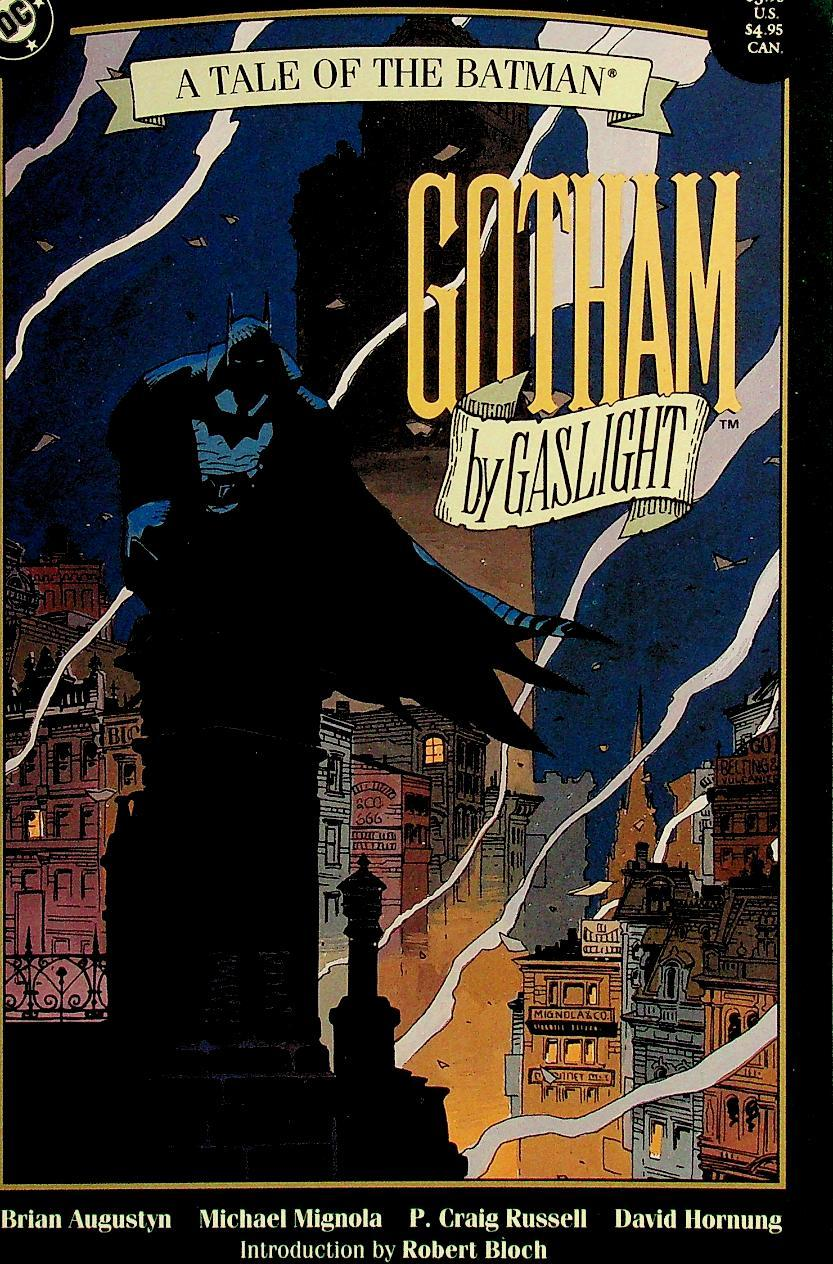comic: (0, 0, 829, 1263)
